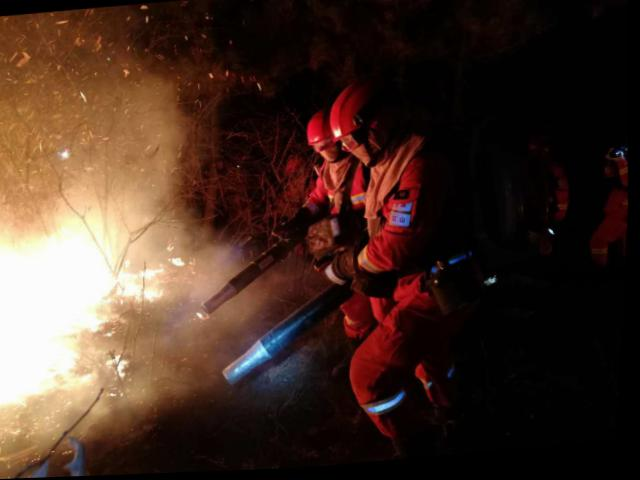fire: (0, 211, 202, 422)
